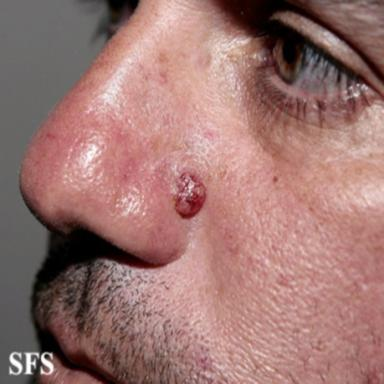basal-cell-carcinoma: (171, 169, 207, 218)
